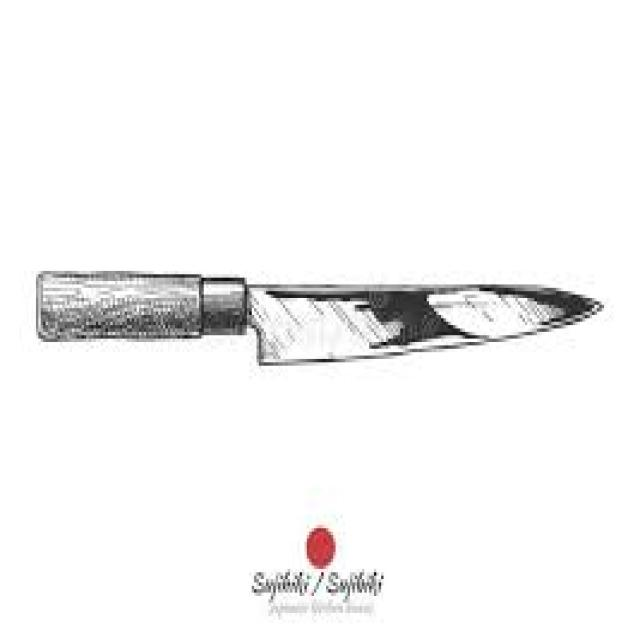Knife: (34, 268, 604, 366)
